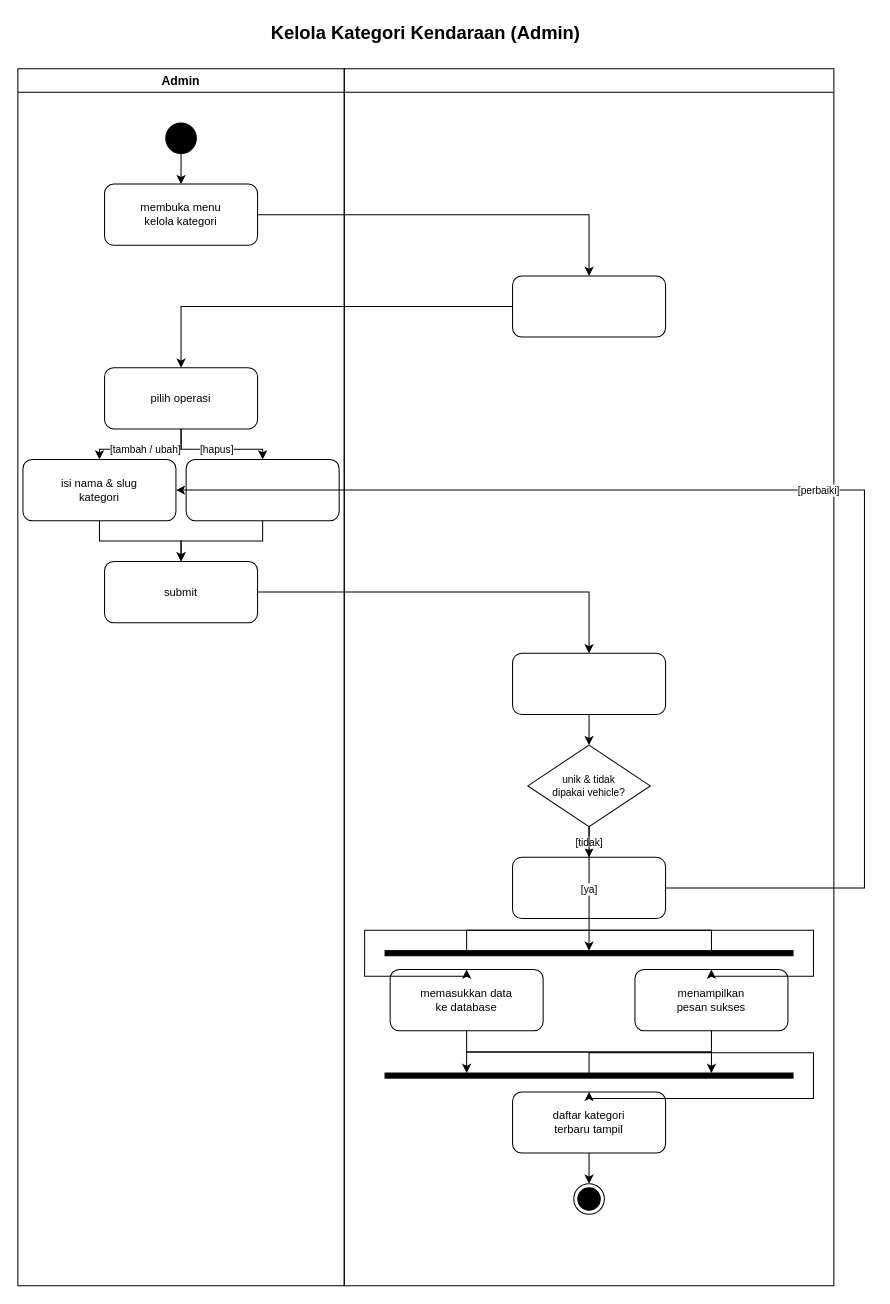
Image size: 890x1304. Some labels were removed from this diagram. The shapes that lost their labels are listed below. From the top down, each one's box as (x1, y1, x2, y2) in pixels, then its label:
(512, 275, 666, 337): menampilkan daftar kategori
(185, 458, 339, 521): hapus kategori
(343, 68, 834, 1286): Sistem
(512, 652, 666, 715): cek duplikat & relasi vehicle
(512, 856, 666, 919): tolak: ubah nama / pindahkan vehicle
